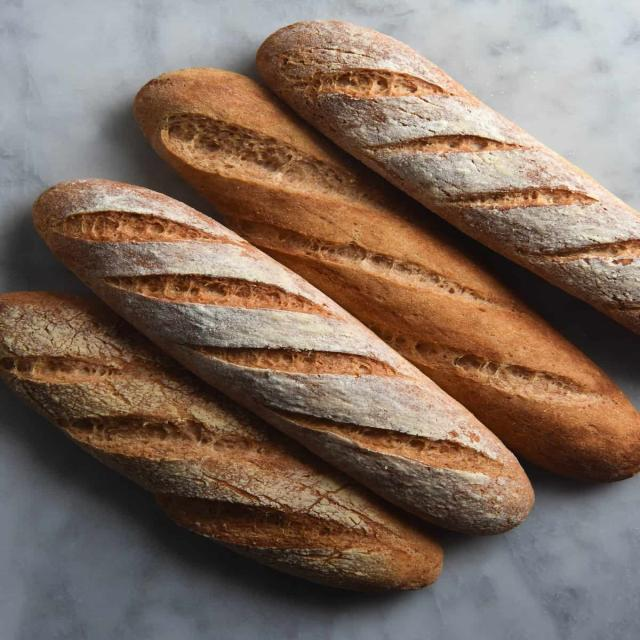Baguette: (135, 68, 639, 481), (34, 180, 532, 532), (0, 292, 442, 588), (256, 21, 639, 334)
